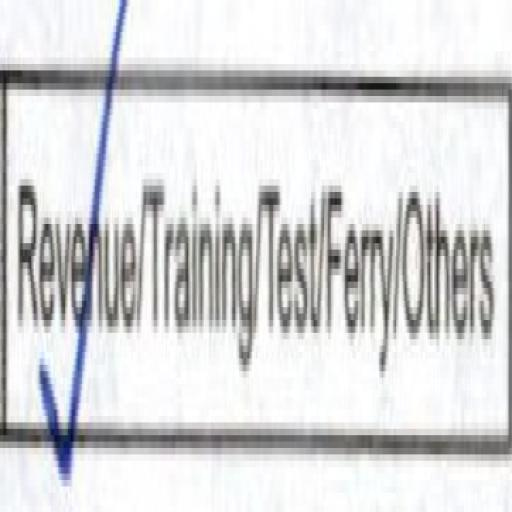check: (2, 0, 138, 484)
